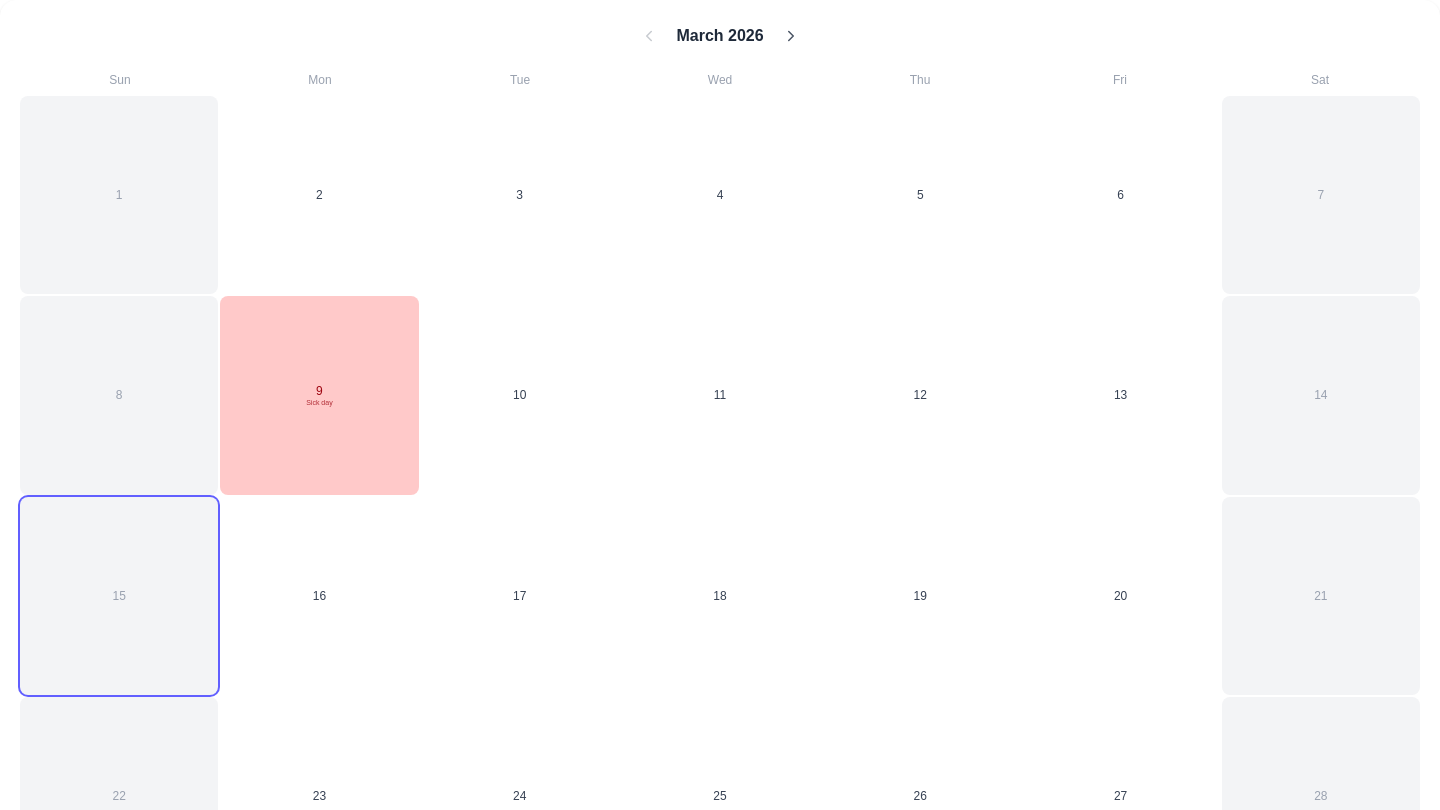
Scenario: CalendarView — sick leave popover badge › shows 'Sick Leave' badge in the popover for a sick-leave entry
Click the text "9" at (319, 391), box [316,383,323,399]
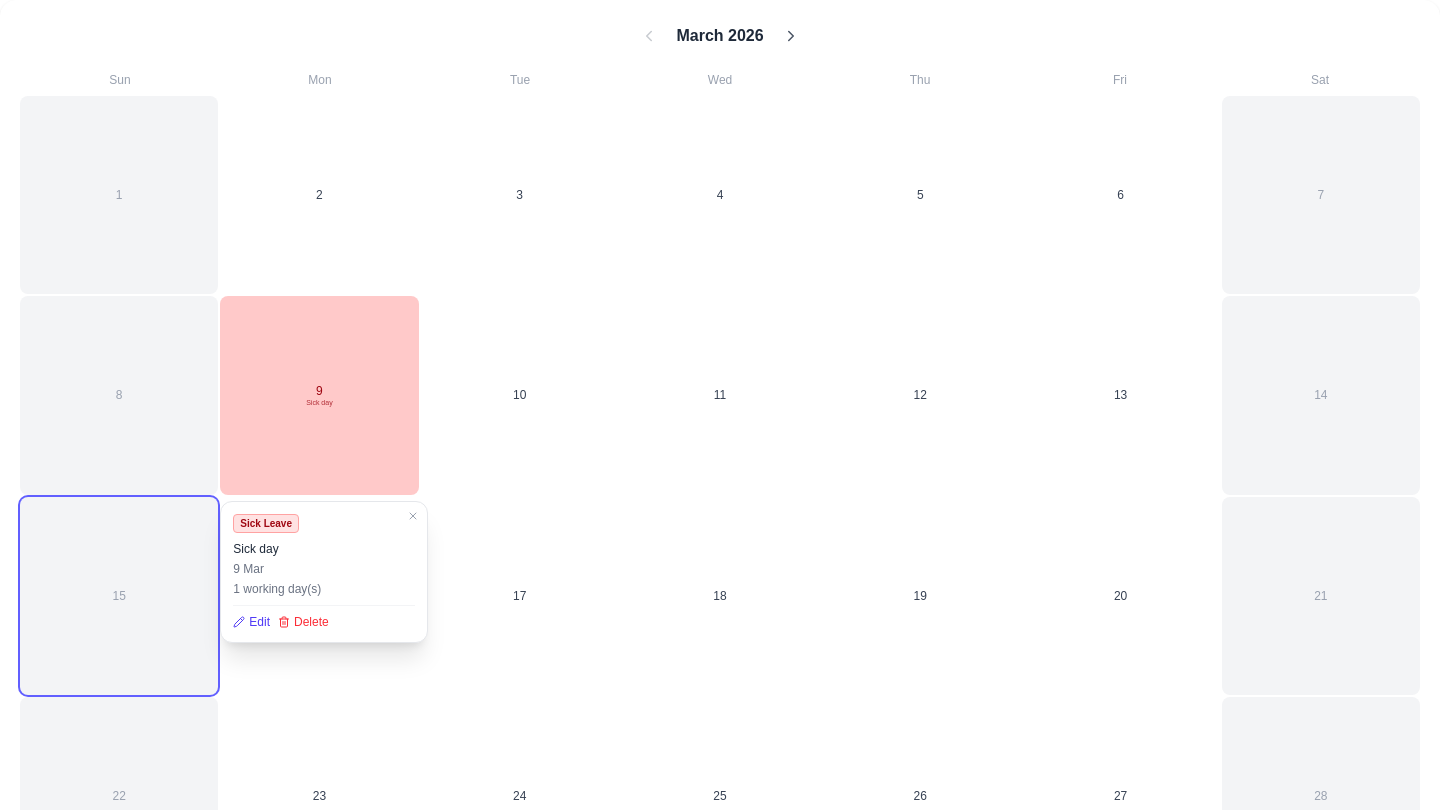
Check: the tooltip "Sick Leave Sick day 9 Mar 1 working day(s) Edit Delete" is shown, box [220,501,428,643]
Check: the text "Sick Leave" is shown, box [233,514,299,533]
